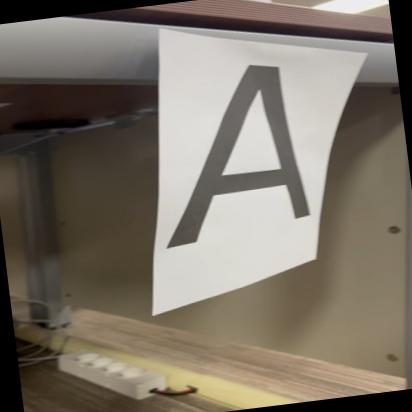seat: (152, 58, 324, 252)
